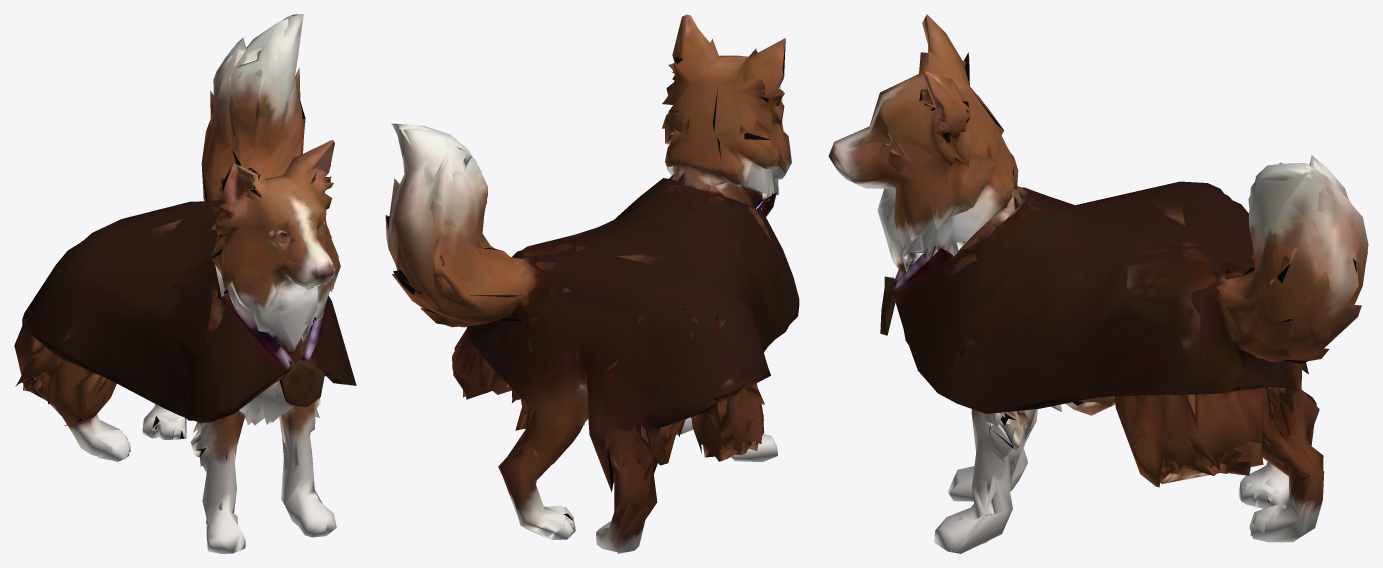
The model's file is detail_12_lo.glb.
3 renders of one model, left to right at view 1: azimuth 30°, elevation 25°; view 2: azimuth 150°, elevation 25°; view 3: azimuth 270°, elevation 25°, orthographic. The views are drawn at different scales.
Parts seen in each view (by area): view 1: Mesh_0.001; view 2: Mesh_0.001; view 3: Mesh_0.001.
Boxes of the visible parts, x1=… form: Mesh_0.001: x1=14, y1=14, x2=356, y2=553; Mesh_0.001: x1=385, y1=14, x2=799, y2=553; Mesh_0.001: x1=828, y1=14, x2=1368, y2=553.
Bounding box in the file's own units: 0.8224 × 0.9651 × 0.9918.
1 material, 1 textured.
